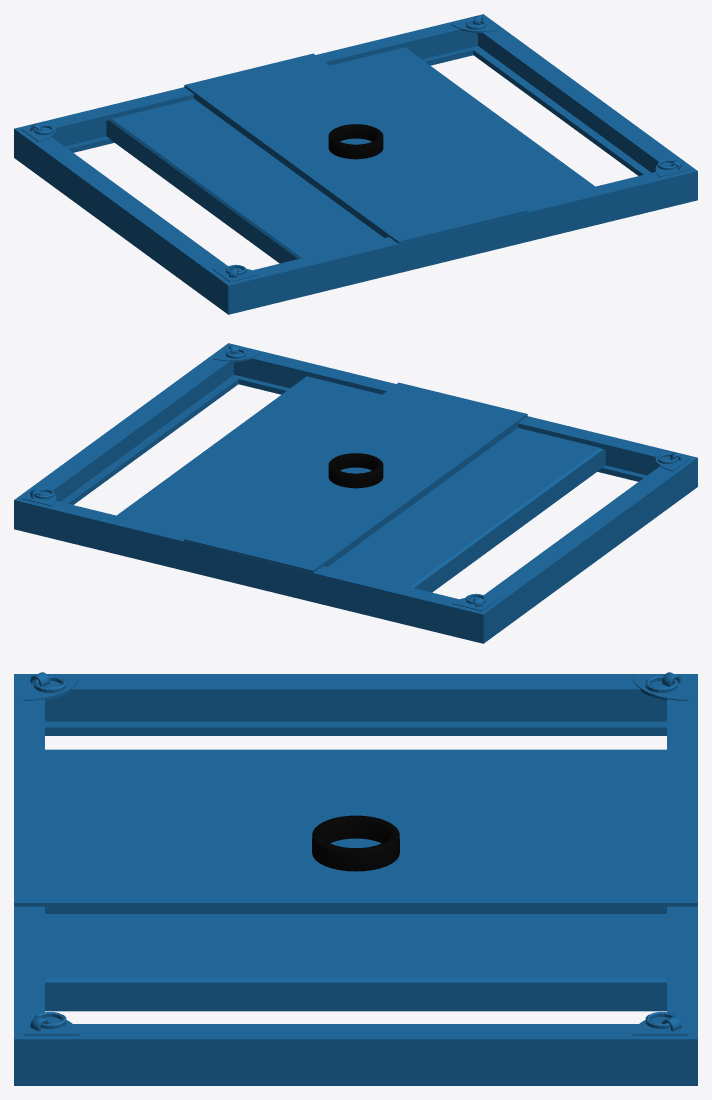
The model's file is BOP SquareBase.fbx.
3 renders of one model, top to bottom at view 1: azimuth 30°, elevation 25°; view 2: azimuth 150°, elevation 25°; view 3: azimuth 270°, elevation 25°, orthographic. The views are drawn at different scales.
Visible parts, largest first — view 1: Cube, Cylinder, Cylinder.001; view 2: Cube, Cylinder, Cylinder.001; view 3: Cube, Cylinder, Cylinder.001.
Boxes of the visible parts, box(x1,y1,x2,y2) form: Cube: box(14, 14, 697, 314); Cylinder: box(21, 16, 690, 282); Cylinder.001: box(328, 124, 383, 159); Cube: box(14, 343, 697, 643); Cylinder: box(21, 345, 690, 611); Cylinder.001: box(328, 453, 383, 488); Cube: box(14, 674, 697, 1085); Cylinder: box(23, 672, 688, 1035); Cylinder.001: box(312, 815, 399, 871).
Bounding box in the file's own units: 200 × 17.9 × 158.
